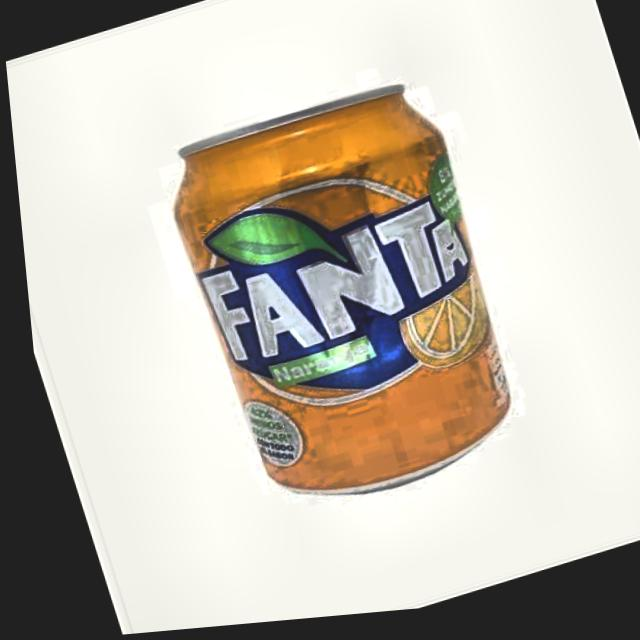Cans: (88, 35, 548, 568)
